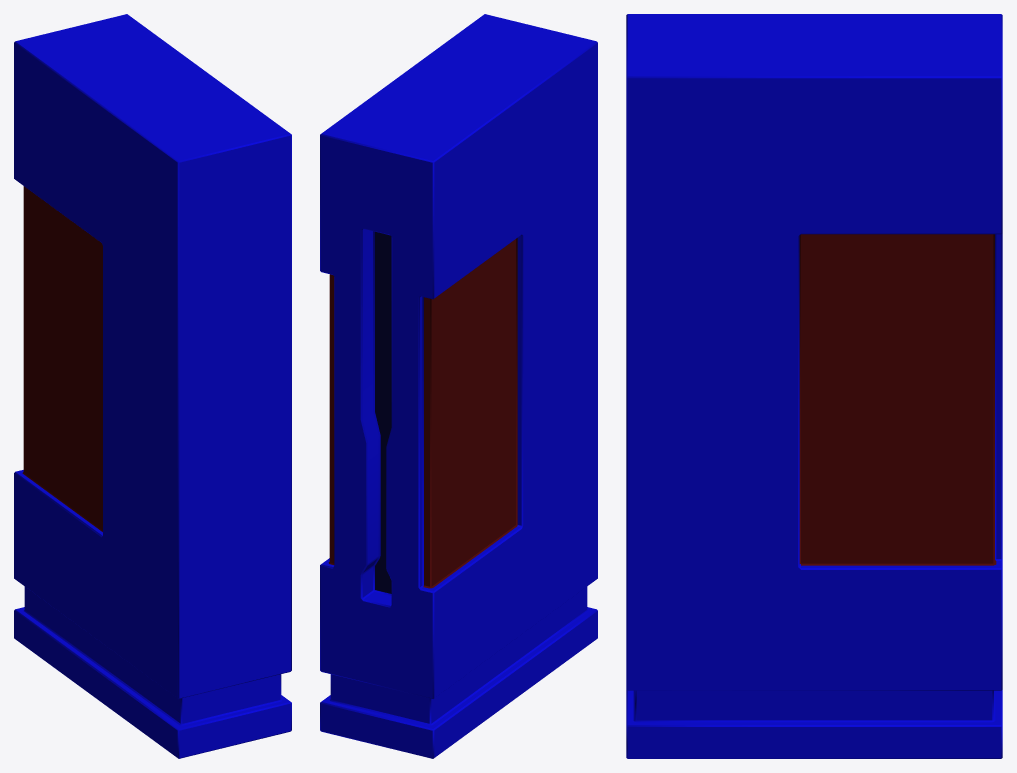
Rendered from Scifi2_PillarC2.fbx.
3 views of the same model, side by side, from view 1: azimuth 30°, elevation 25°; view 2: azimuth 150°, elevation 25°; view 3: azimuth 270°, elevation 25° (orthographic). The views are drawn at different scales.
Parts seen in each view (by area): view 1: PillarC2; view 2: PillarC2; view 3: PillarC2.
Boxes of the visible parts, bbox=[...] form: PillarC2: bbox=[14, 14, 291, 758]; PillarC2: bbox=[320, 14, 597, 758]; PillarC2: bbox=[626, 14, 1002, 758].
Size of the model in its own units: 80 by 400 by 200.
